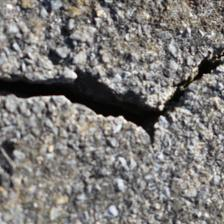Crack: (2, 24, 220, 119)
